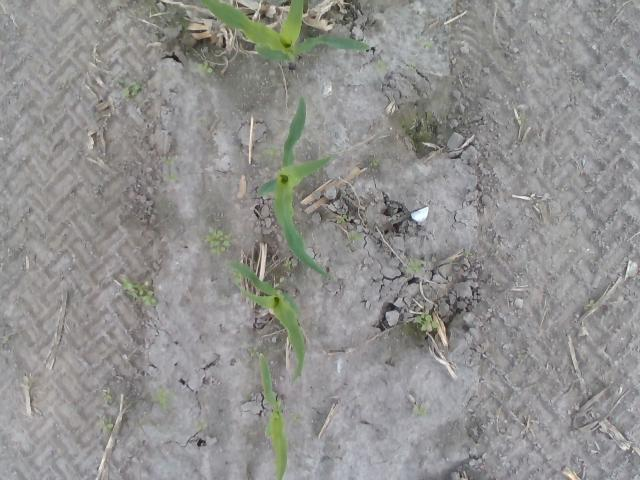Maize: (256, 96, 338, 282), (203, 1, 373, 69), (223, 258, 307, 388), (256, 352, 289, 479)
Weeds: (120, 275, 159, 306), (202, 227, 234, 254), (148, 389, 178, 408), (414, 310, 438, 332), (122, 82, 142, 101), (407, 258, 426, 276), (98, 416, 115, 434), (20, 375, 35, 392), (344, 228, 363, 241), (101, 386, 113, 406), (196, 61, 212, 76), (232, 266, 242, 286), (412, 403, 426, 417), (193, 420, 208, 432), (164, 170, 178, 182), (266, 148, 284, 156), (378, 56, 388, 70), (420, 40, 434, 49), (582, 297, 594, 306), (336, 214, 345, 225), (405, 62, 417, 69), (164, 156, 175, 163), (372, 158, 378, 163)
